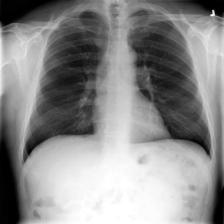normal: (19, 4, 215, 165)
